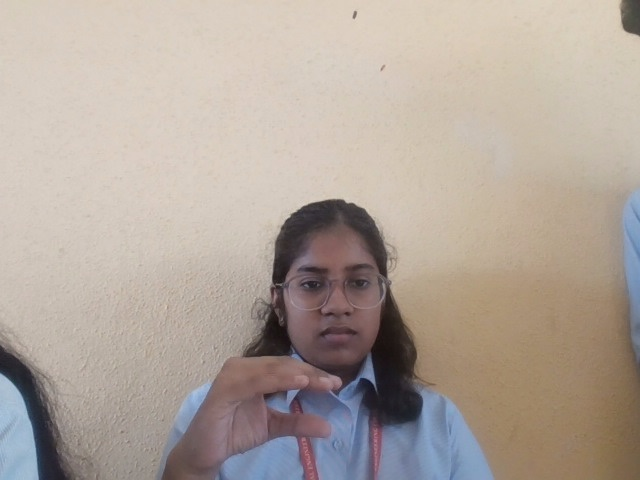No: (172, 348, 345, 468)
